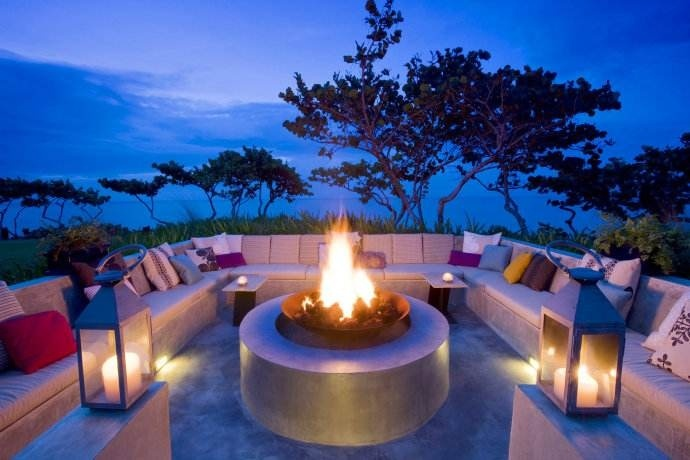fire: (306, 217, 378, 319)
